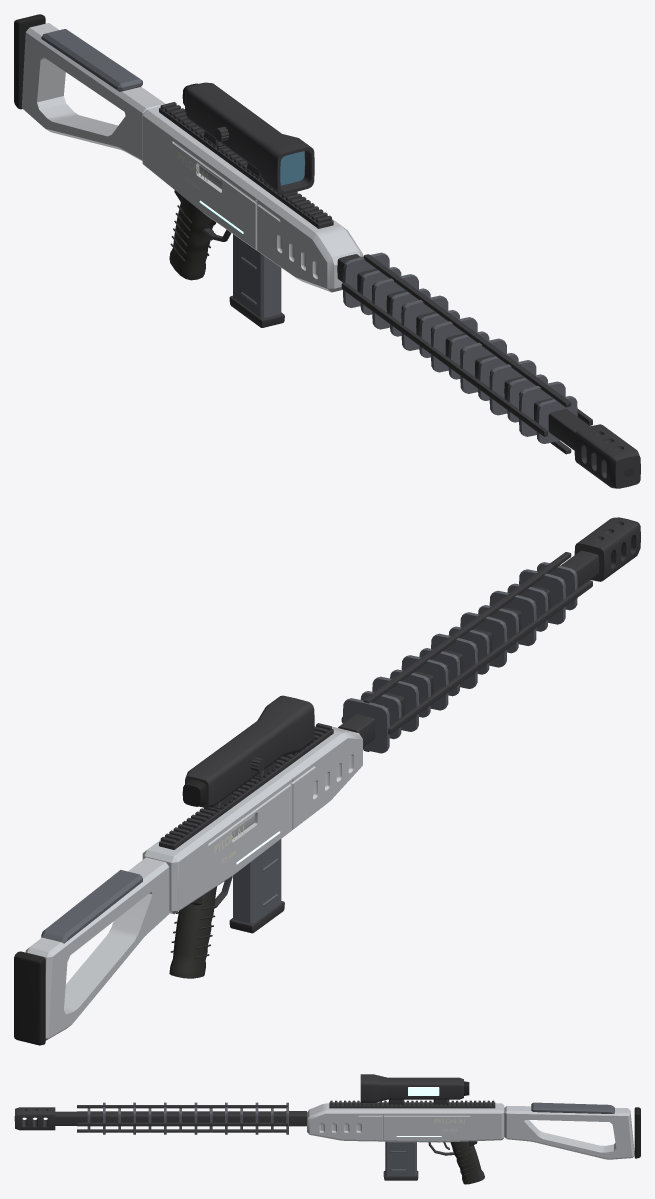
File: pylon.glb
The picture shows the model from 3 angles, top to bottom: view 1: azimuth 30°, elevation 25°; view 2: azimuth 150°, elevation 25°; view 3: azimuth 270°, elevation 25°; orthographic projection. The views are drawn at different scales.
Parts seen in each view (by area): view 1: Body; view 2: Body; view 3: Body.
Boxes of the visible parts, bbox=[...] form: Body: bbox=[14, 14, 640, 488]; Body: bbox=[14, 517, 640, 1045]; Body: bbox=[14, 1074, 640, 1184].
Bounding box in the file's own units: 0.066 × 0.2582 × 1.4.
